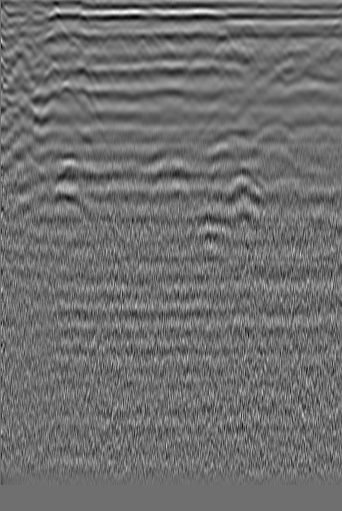가스: (50, 180, 94, 223)
상수: (313, 45, 333, 65)
오수: (13, 34, 33, 54)
우수: (147, 30, 167, 50)
